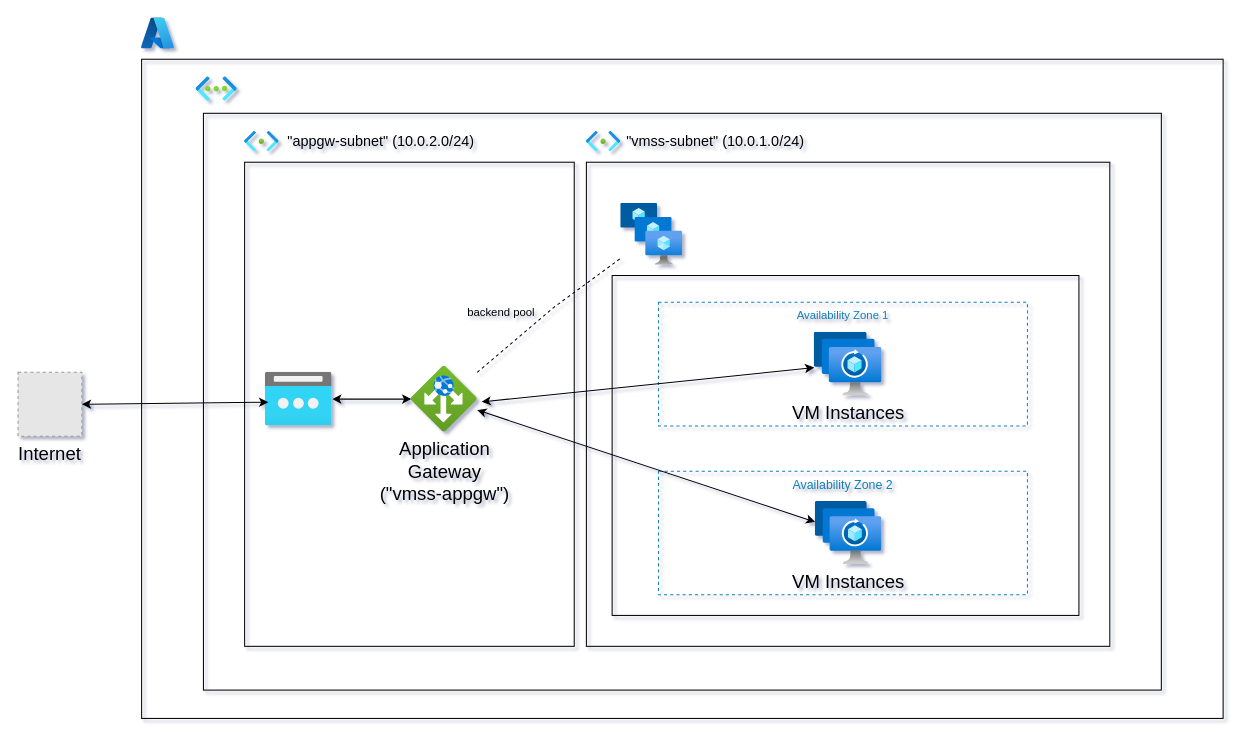
This 1247x743 diagram has some shape labels left out. Grey dashed boxes stand in for pictures. Here are the shapes that lost their labels. From the top down, the centre of each, then its label:
(x=157, y=33): Azure Cloud - US Central Region
(x=216, y=88): Virtual Network - "vmss-vnet" (10.0.0.0/16)
(x=651, y=234): VM Scale Set - "vmss-main"
(x=298, y=398): Public IP Address
